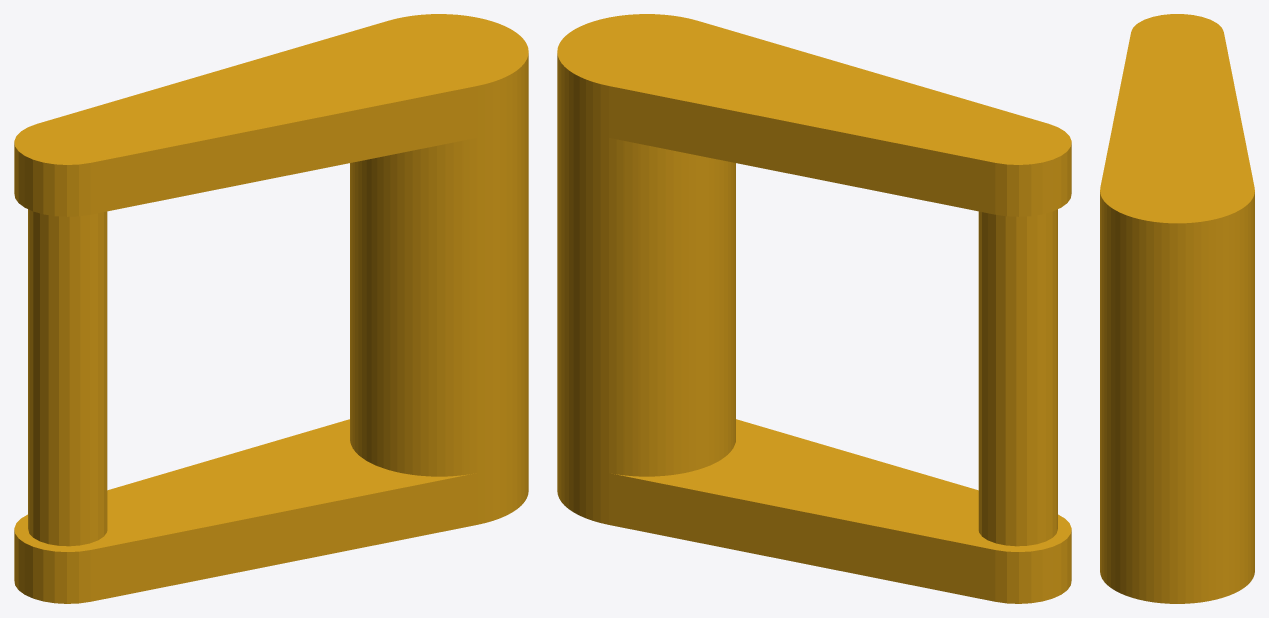
Rendered from arm_Body1.obj.
3 views of the same model, side by side, from view 1: azimuth 30°, elevation 25°; view 2: azimuth 150°, elevation 25°; view 3: azimuth 270°, elevation 25° (orthographic). The views are drawn at different scales.
Size of the model in its own units: 320 by 271 by 99.99.
